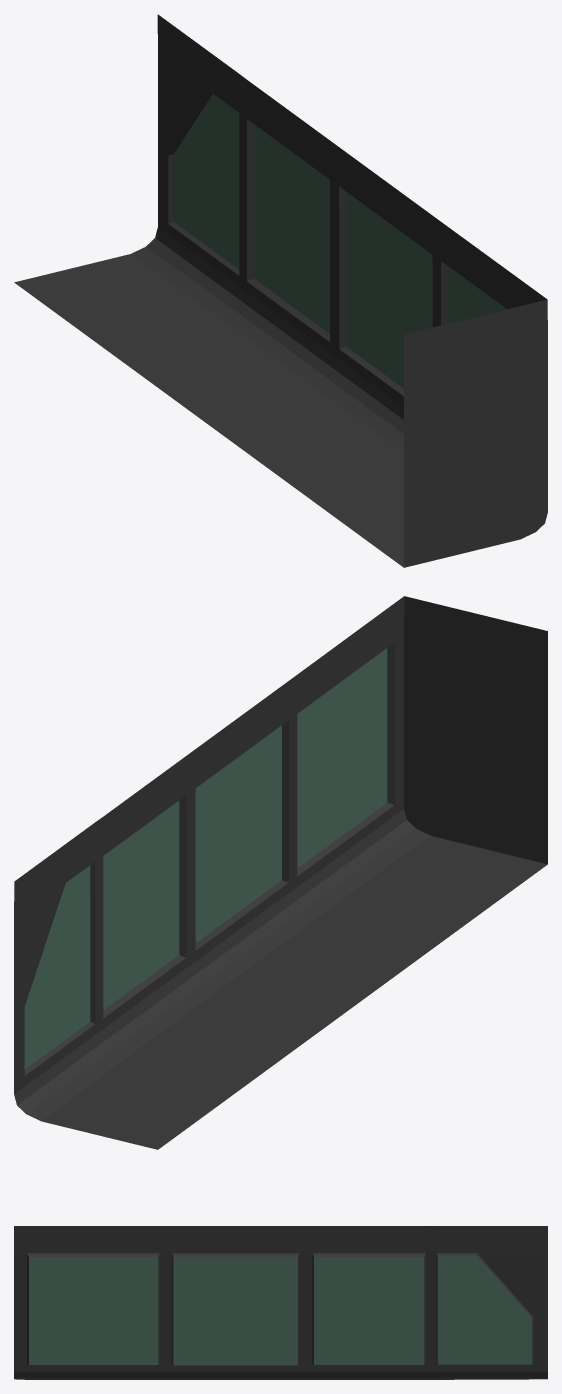
The model's file is CabinetTop.fbx.
3 renders of one model, top to bottom at view 1: azimuth 30°, elevation 25°; view 2: azimuth 150°, elevation 25°; view 3: azimuth 270°, elevation 25°, orthographic. The views are drawn at different scales.
Visible parts, largest first — view 1: pasted__pasted__pCube20; view 2: pasted__pasted__pCube20; view 3: pasted__pasted__pCube20.
Boxes of the visible parts, box(x1,y1,x2,y2) form: pasted__pasted__pCube20: box(14, 14, 547, 567); pasted__pasted__pCube20: box(14, 596, 547, 1149); pasted__pasted__pCube20: box(14, 1226, 547, 1379).
Size of the model in its own units: 42.72 by 63.6 by 193.
